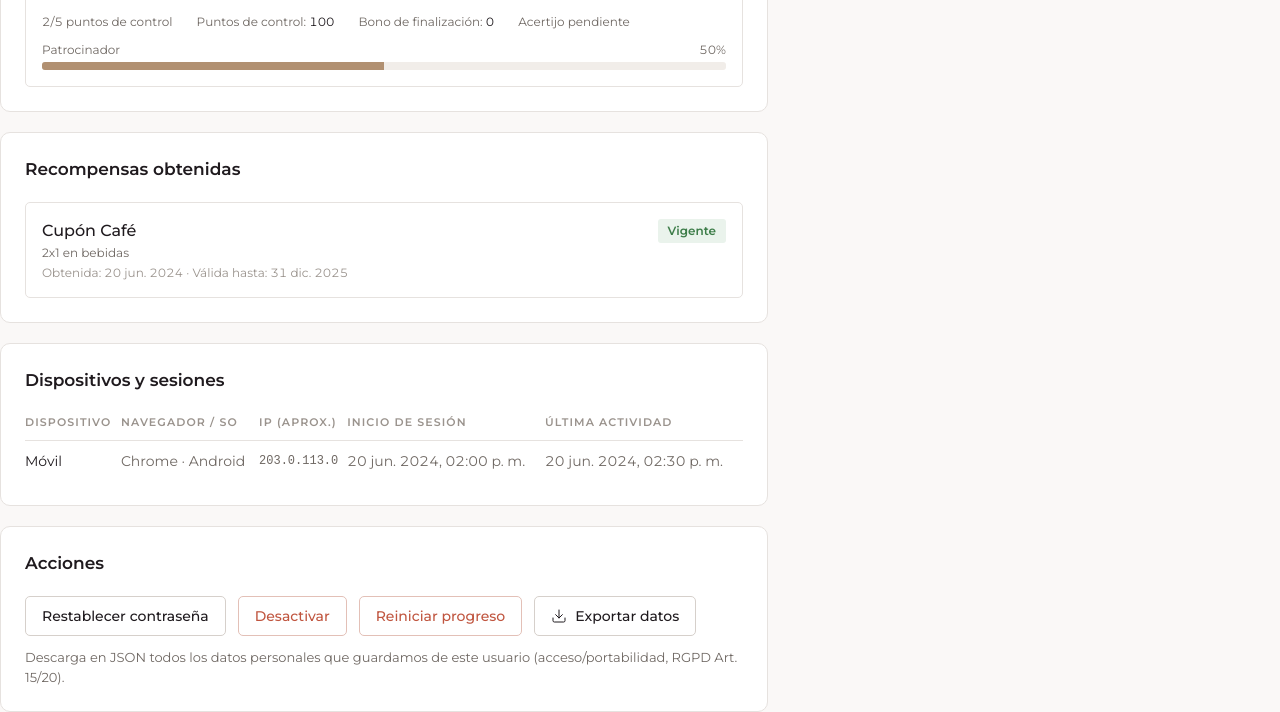
Test: Password reset one-time reveal (spec §6.7, §11.3) › shows temp password once in a reveal dialog after confirming
(page scrolled)
Click the button "Restablecer contraseña" at x=125, y=616, box [25,596,226,636]
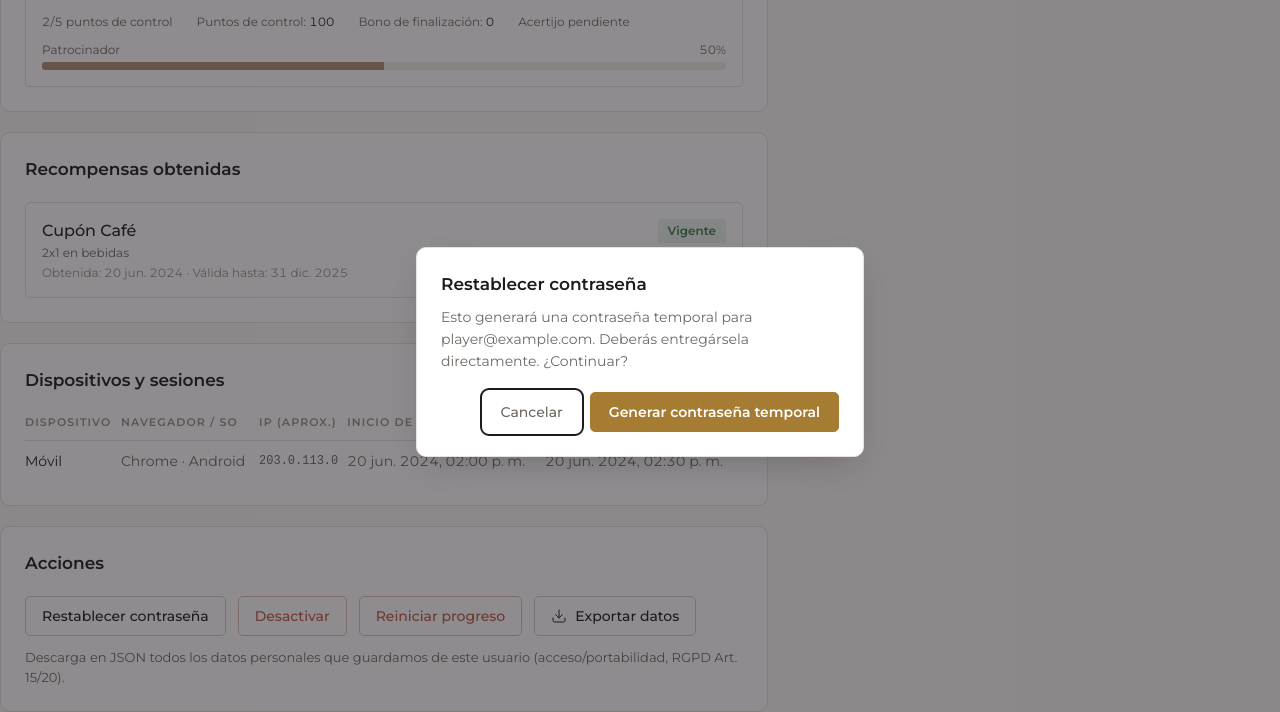
Check: the button "Generar contraseña temporal" is shown
Click the button "Generar contraseña temporal" at x=714, y=412, box [590,392,839,432]
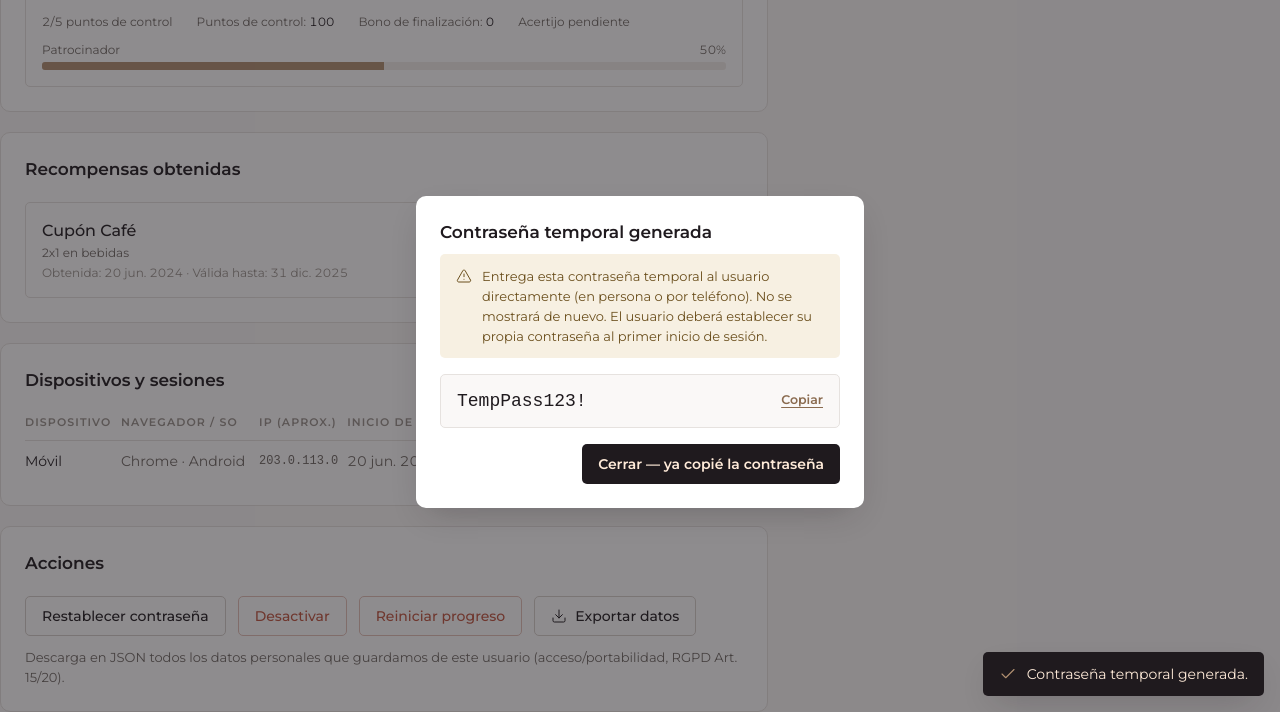
Check: the heading "Contraseña temporal generada" is shown, box [440,222,712,242]
Check: the text "TempPass123!" is shown, box [457,391,587,411]
